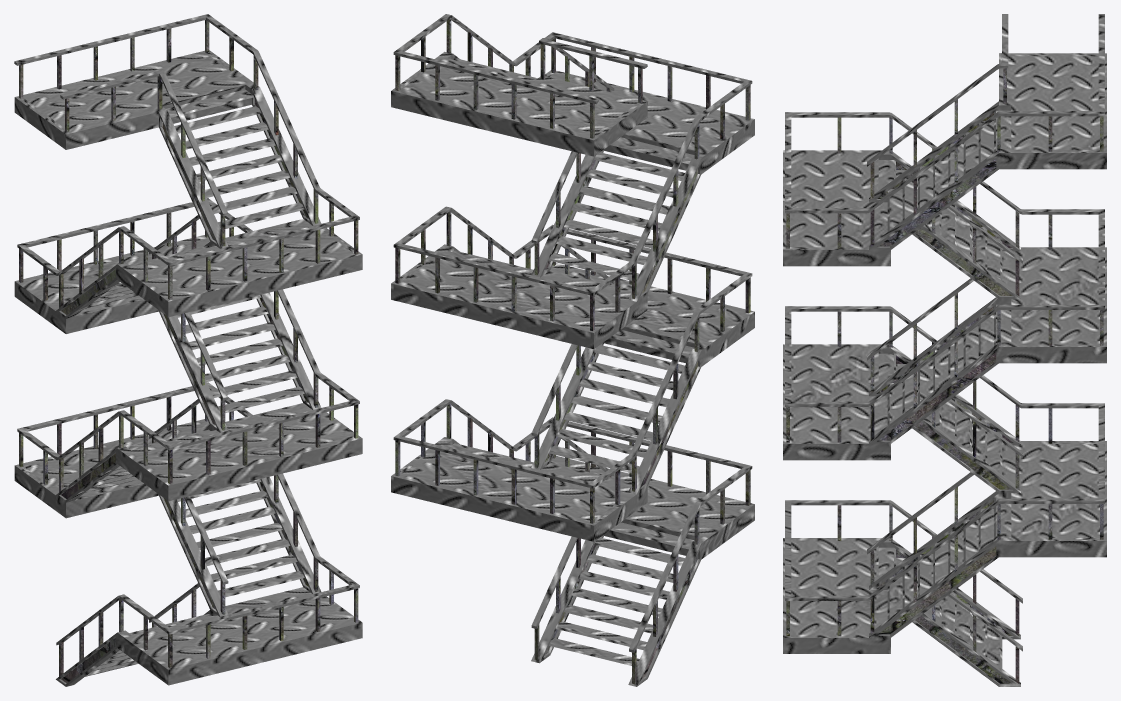
File: stairs.glb
The picture shows the model from 3 angles, left to right: view 1: azimuth 30°, elevation 25°; view 2: azimuth 150°, elevation 25°; view 3: azimuth 270°, elevation 25°; orthographic projection. The views are drawn at different scales.
Parts seen in each view (by area): view 1: Material2, Material22; view 2: Material2, Material22; view 3: Material2, Material22.
Part boxes in pixels (<box>): Material2: <box>14,14,362,686</box>; Material22: <box>19,20,358,683</box>; Material2: <box>391,14,754,686</box>; Material22: <box>395,18,750,684</box>; Material2: <box>783,14,1106,686</box>; Material22: <box>786,68,1103,683</box>.
Bounding box in the file's own units: 3.62 × 10.43 × 4.93.
Materials: 2 (2 with a texture image).
